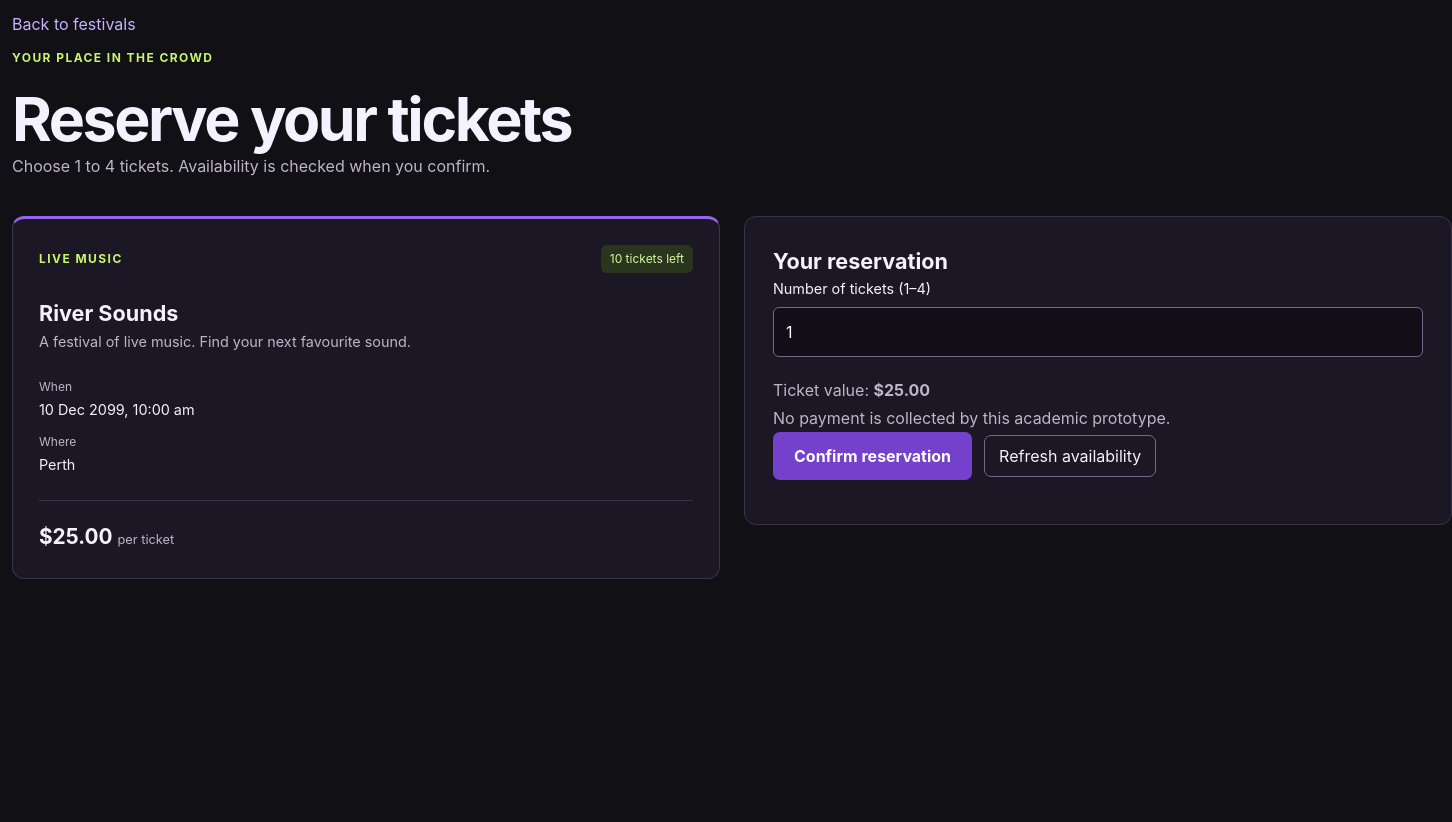
Test case: rejects invalid quantities and disables sold-out bookings
Replace the text in the number field labelled "Number of tickets (1–4)" with "5" at [1098, 332], box [773,308,1423,358]
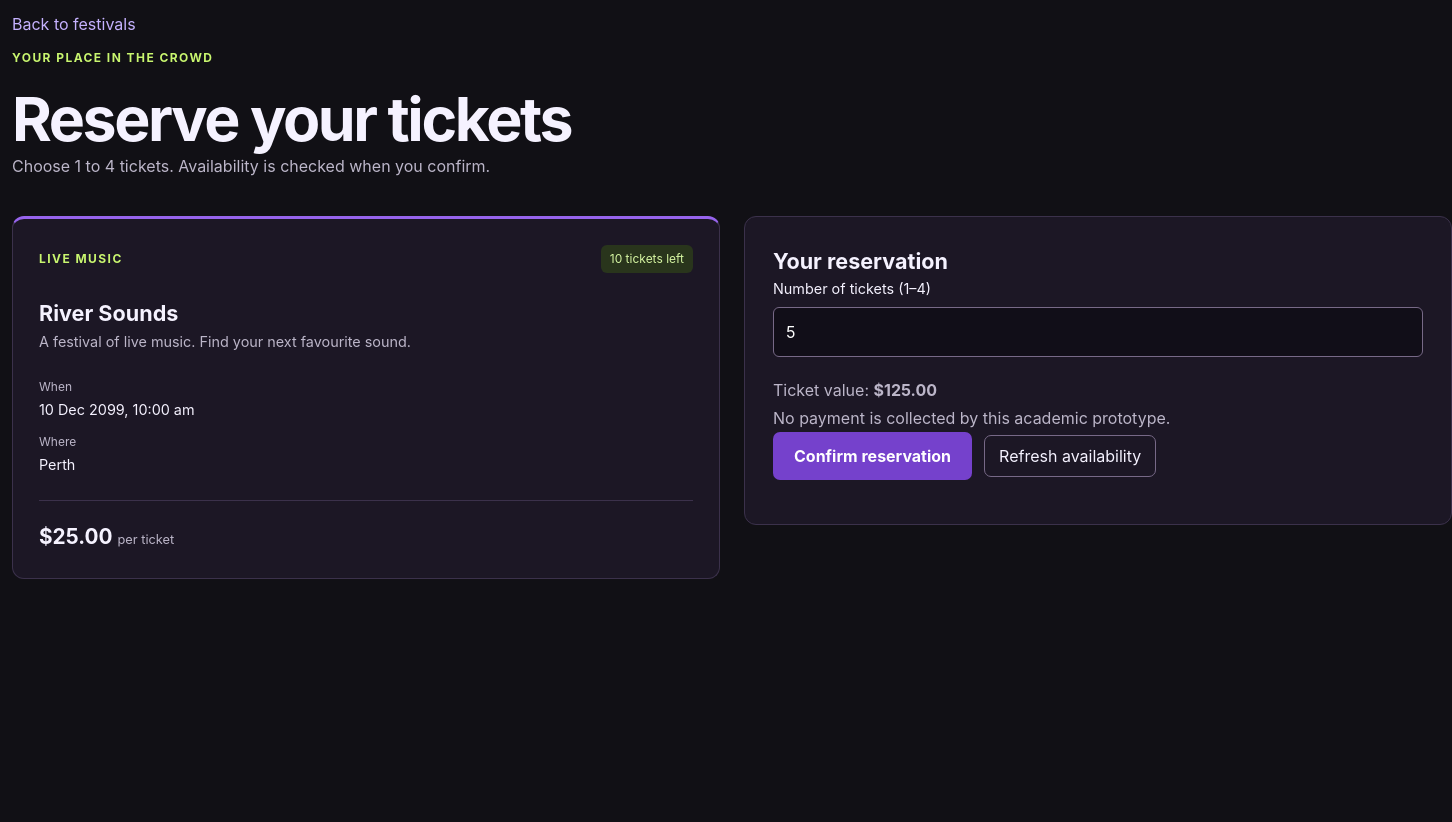
Submit the form, box [744,216,1451,525]
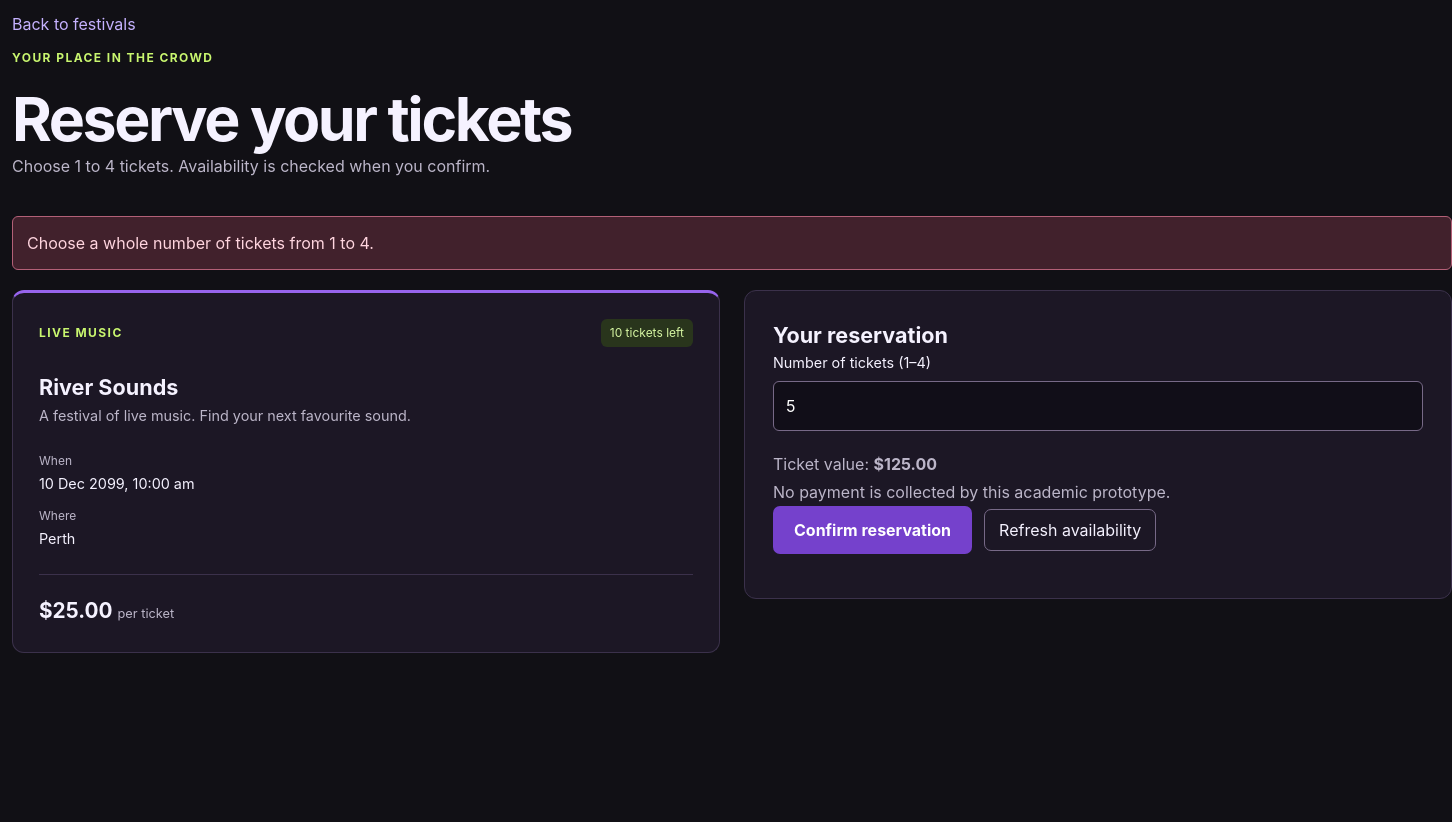
Result: the message "Choose a whole number of tickets from 1 to 4." is shown at [12,216,1451,270]
Click the button "Refresh availability" at [1070, 530], box [984,509,1156,551]
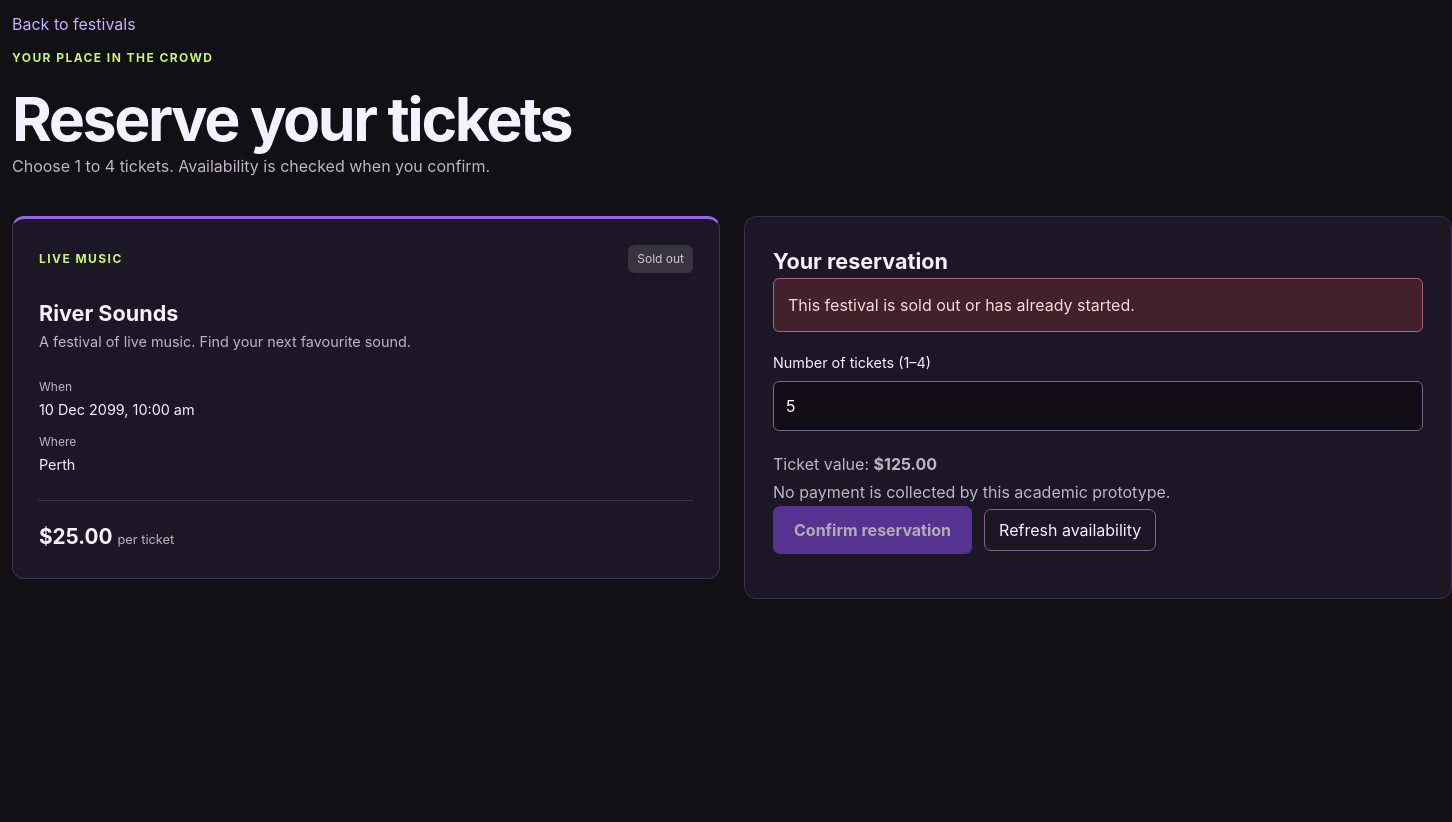
Result: the submit button is disabled at [773,506,972,554]
Result: the text "Sold out" is shown at [628,246,693,274]
